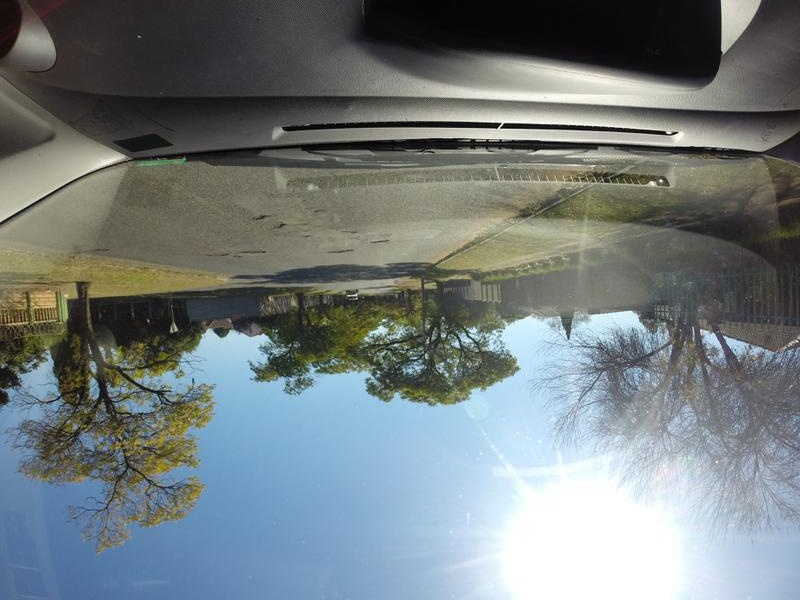pothole: (233, 244, 266, 260), (266, 220, 292, 237), (324, 246, 356, 257), (366, 235, 391, 249), (247, 210, 272, 223), (203, 249, 231, 260)
